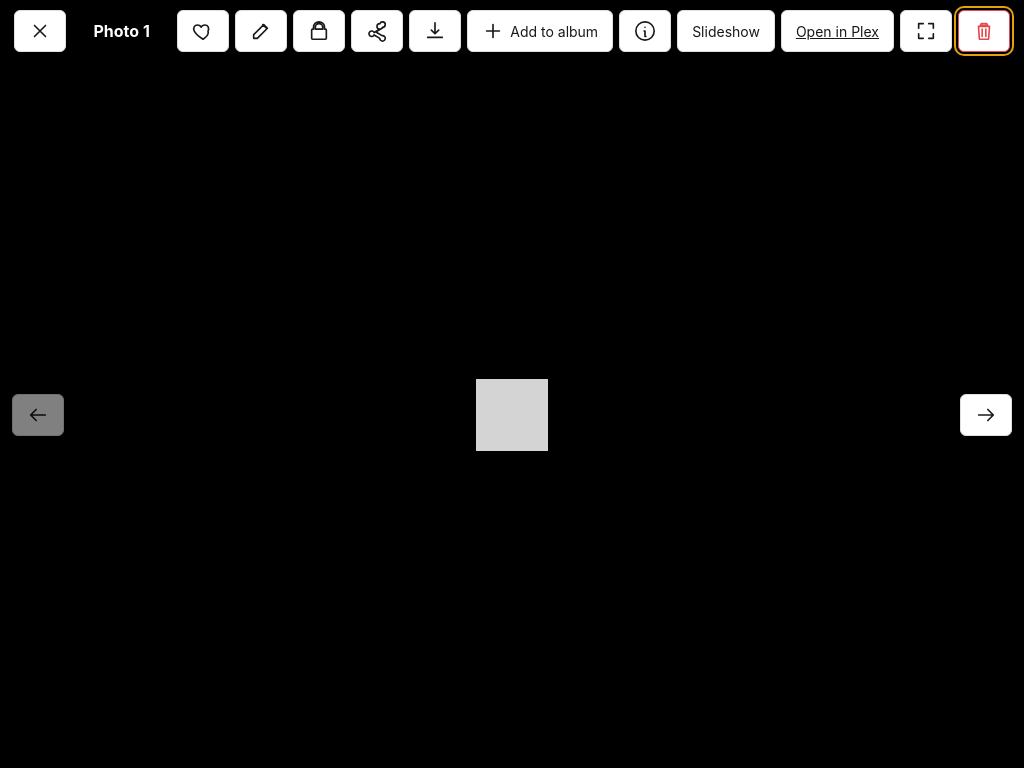
Test: Viewer keyboard handling › does not close on Escape while a dialog is open, and the dialog closes instead
Click the button named "Delete".
click(984, 31)  # box x1=958 y1=10 x2=1010 y2=52
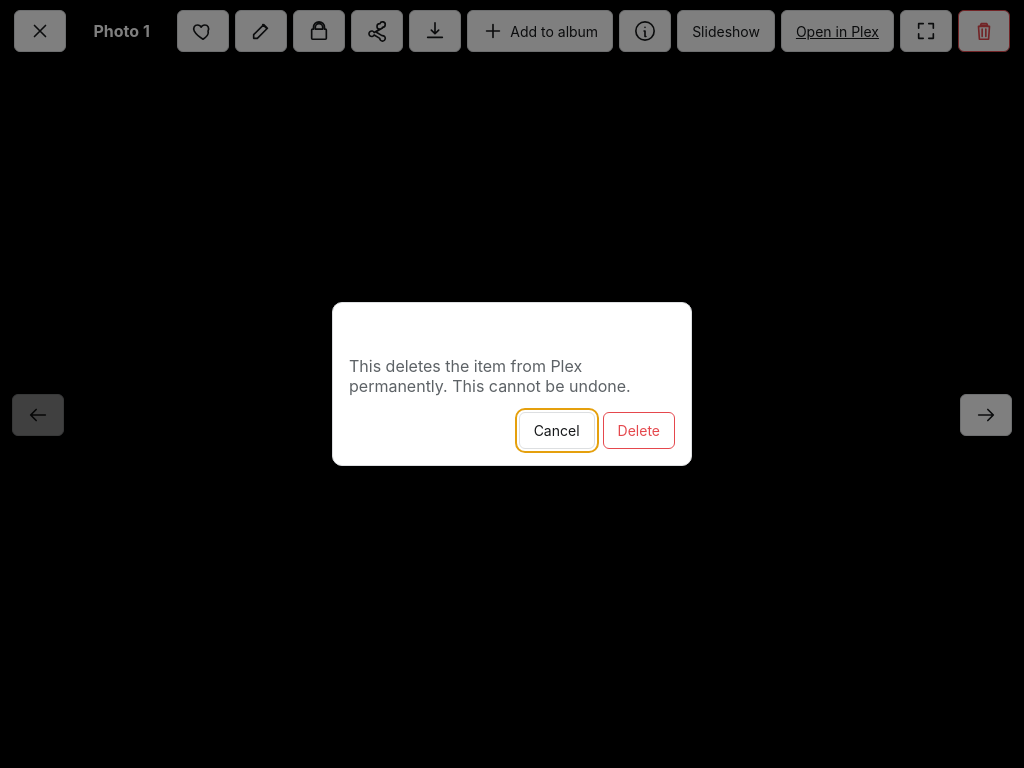
Press Escape in the button "Cancel", box x1=519 y1=412 x2=594 y2=449
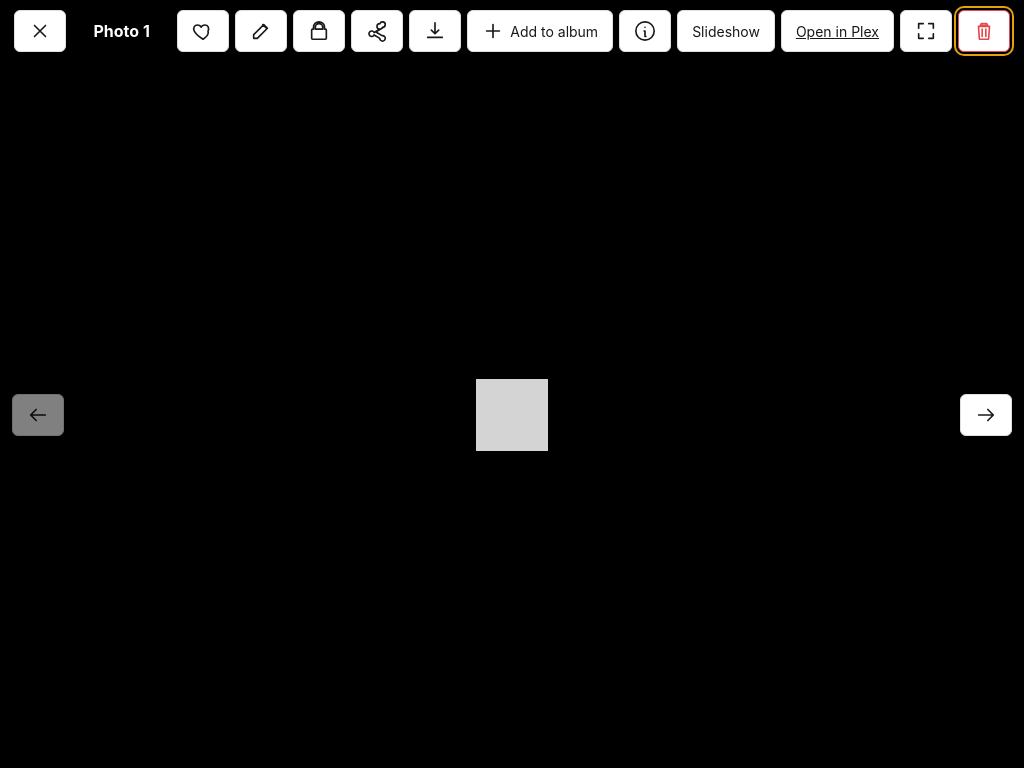
Check: the text with test id "location" reads "/photos/view/1", box x1=0 y1=0 x2=111 y2=20
Check: the dialog is gone
